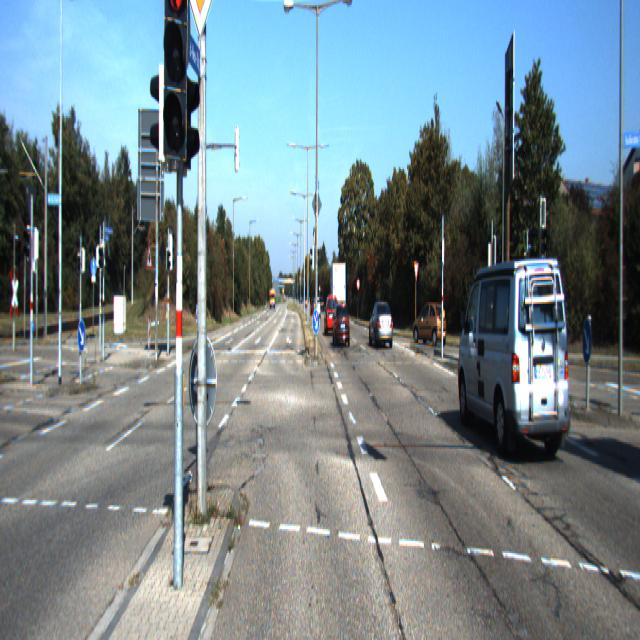Car: (456, 245, 574, 468), (412, 298, 447, 344), (369, 300, 393, 350), (330, 260, 346, 320), (333, 302, 350, 348), (324, 294, 338, 337)
